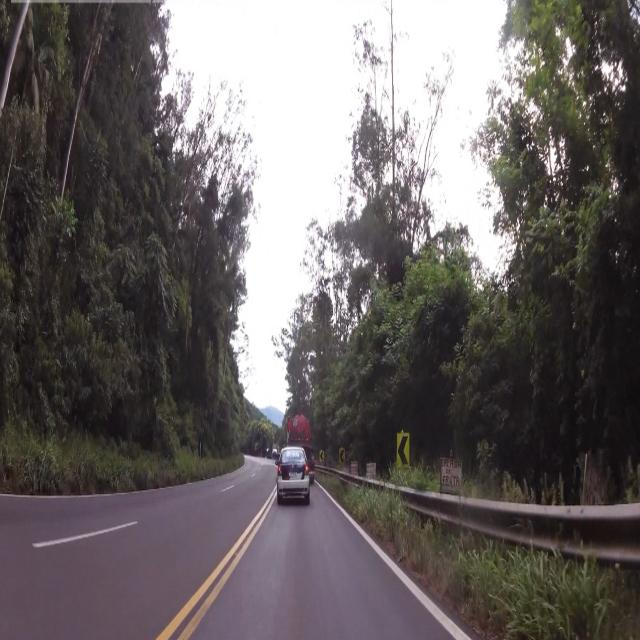Del: (394, 431, 414, 474)
